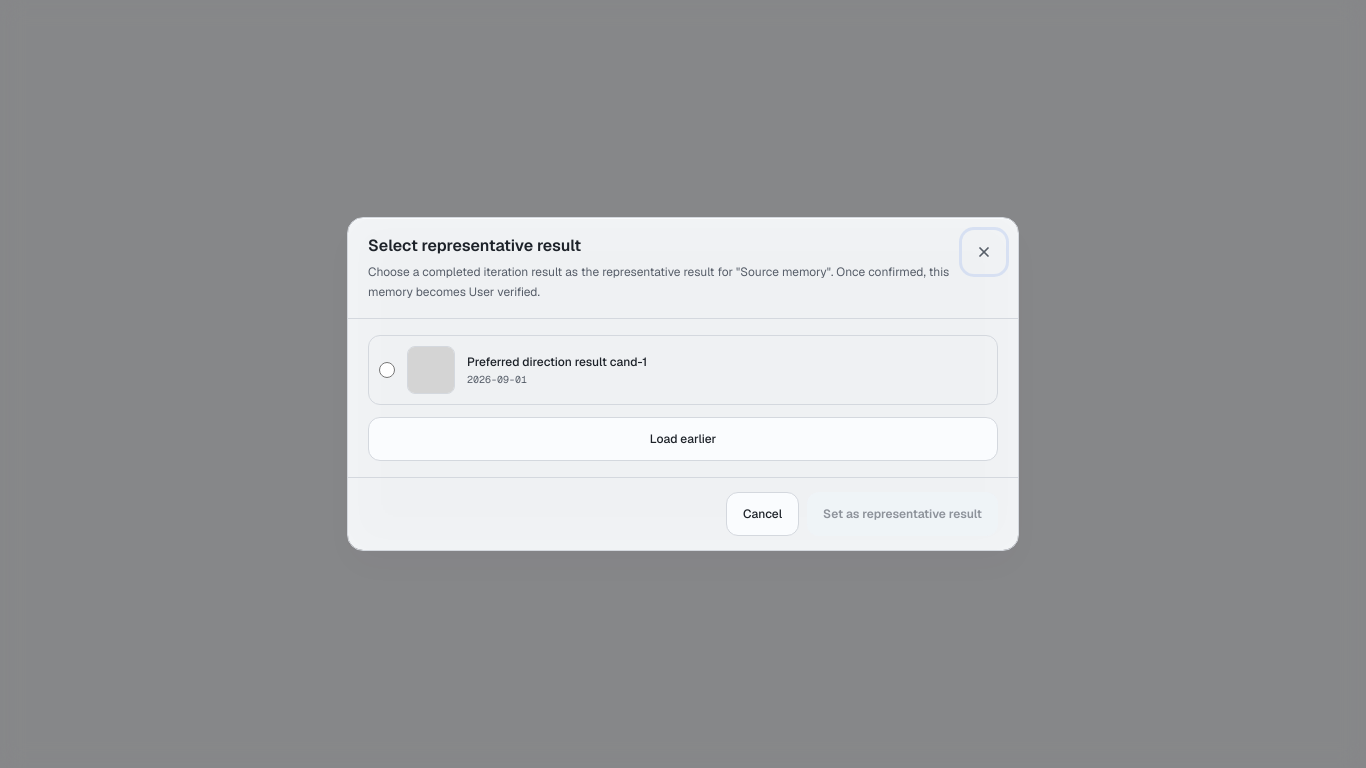
Test: RepresentativeResultSelector — plan-06 工作台代表结果确认入口 › 「Load earlier」游标翻页读取更早候选
The image size is (1366, 768).
Expected: the radio button labelled "Preferred direction result cand-1 2026-09-01" is shown, [379, 362, 395, 378]
Click the button "Load earlier" at (683, 439), box [368, 417, 998, 461]
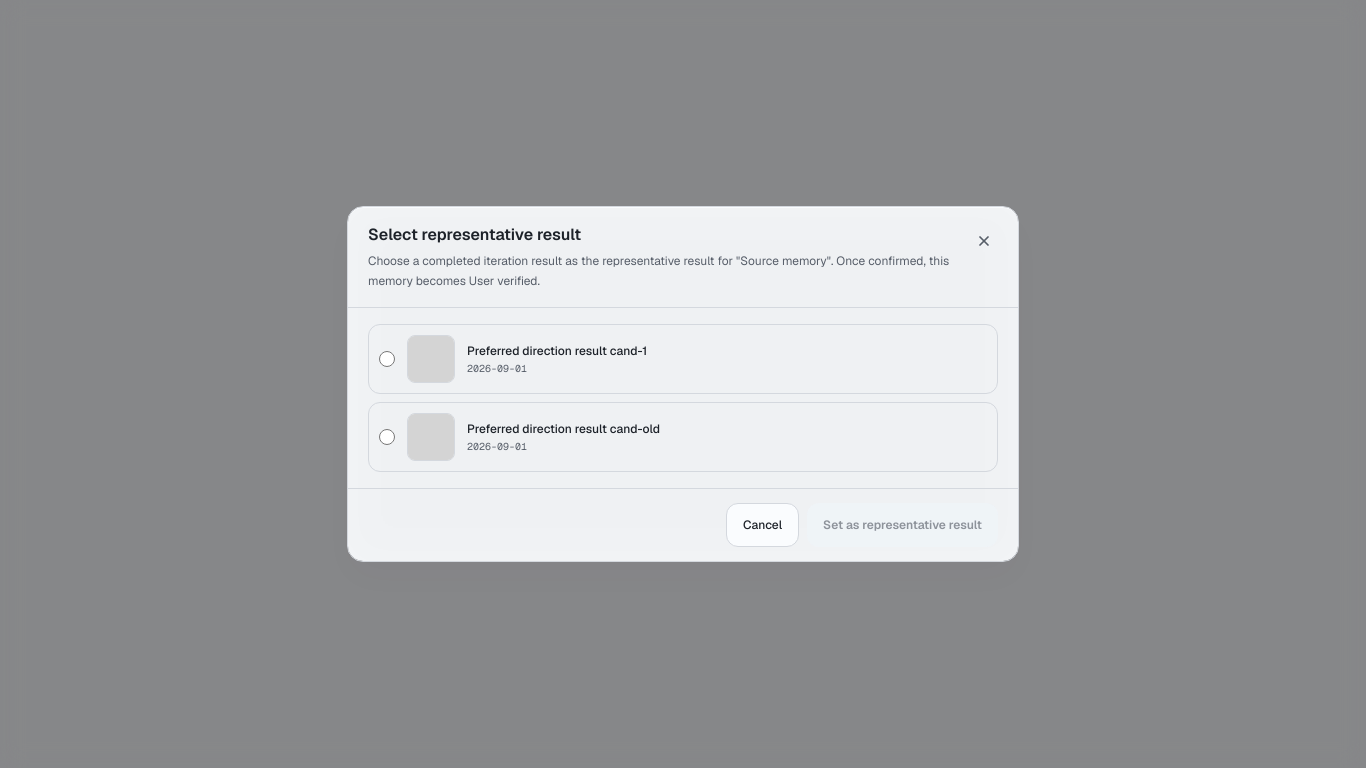
Expected: the radio button labelled "Preferred direction result cand-old 2026-09-01" is shown, [379, 429, 395, 445]
